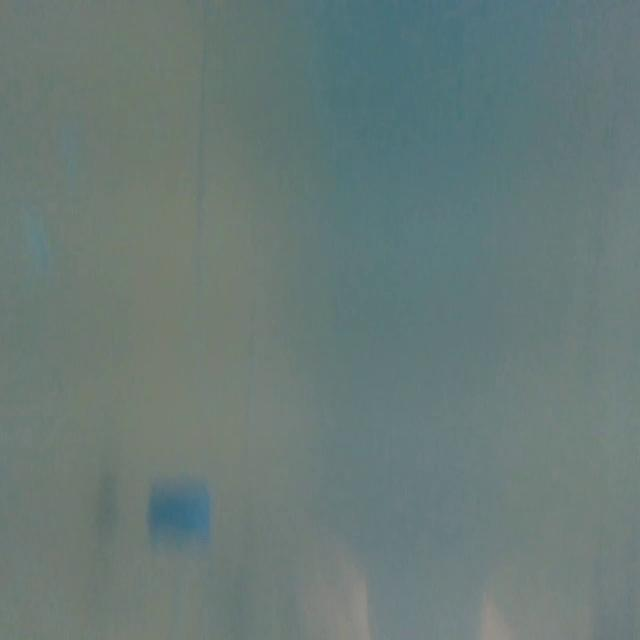plastic bottle: (112, 466, 232, 640)
